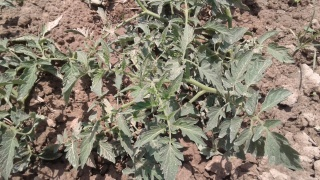tomato diseased leaf: (39, 15, 65, 38)
tomato plant: (126, 1, 277, 161), (1, 41, 48, 137)
